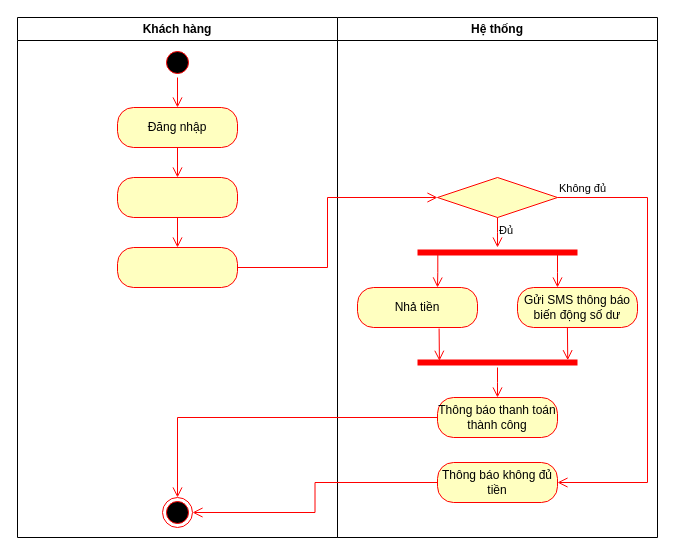
Some shapes in this 675 by 555 pixel diagram are drawn without their labels. Each missing label, with the box of its shape:
Kiểm tra số dư: (436, 176, 558, 218)
Nhập tiền: (116, 246, 238, 288)
Quét mã QR: (116, 176, 238, 218)
